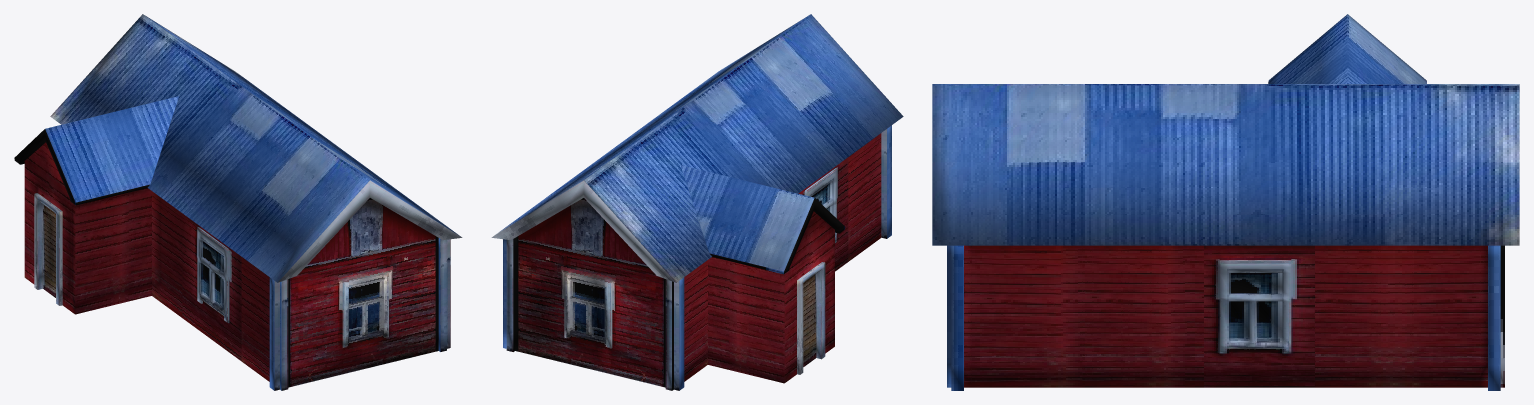
Rendered from mökki2Exterior.glb.
The picture shows the model from 3 angles, left to right: view 1: azimuth 30°, elevation 25°; view 2: azimuth 150°, elevation 25°; view 3: azimuth 270°, elevation 25°; orthographic projection. The views are drawn at different scales.
Parts seen in each view (by area): view 1: mökki2Exterior; view 2: mökki2Exterior; view 3: mökki2Exterior.
Part boxes in pixels (left/top/right/bottom): mökki2Exterior: left=14, top=14, right=462, bottom=390; mökki2Exterior: left=491, top=14, right=903, bottom=390; mökki2Exterior: left=932, top=14, right=1519, bottom=390.
Size of the model in its own units: 5.54 by 4.01 by 8.48.
1 material, 1 textured.
